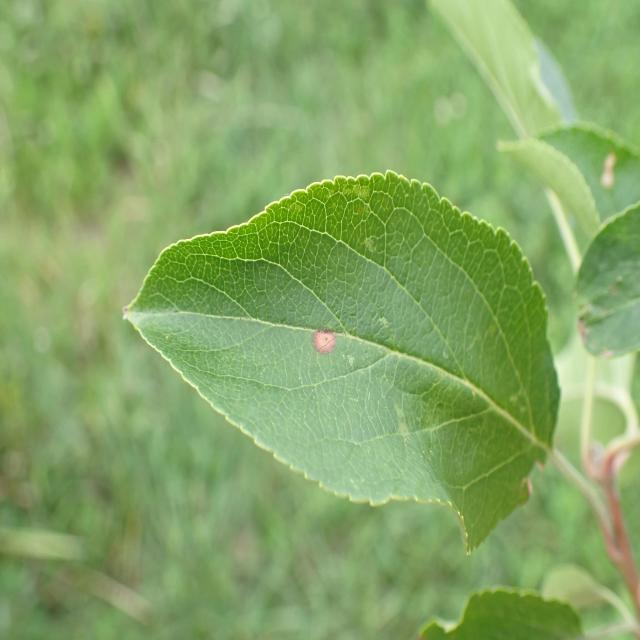Black Rot: (303, 308, 347, 388)
